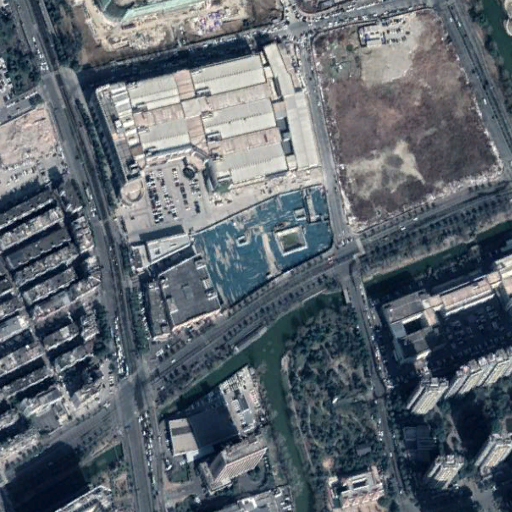cw: (189, 187, 343, 310)
